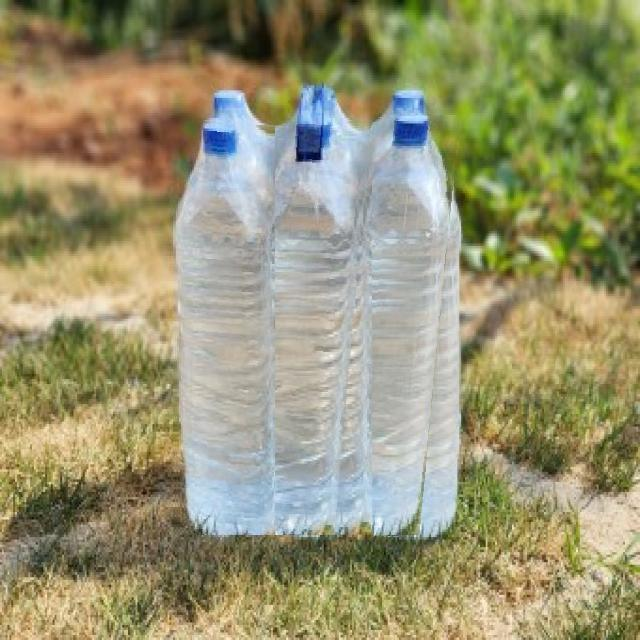plastic bottle: (173, 118, 275, 535), (275, 118, 371, 535), (372, 115, 460, 538)
